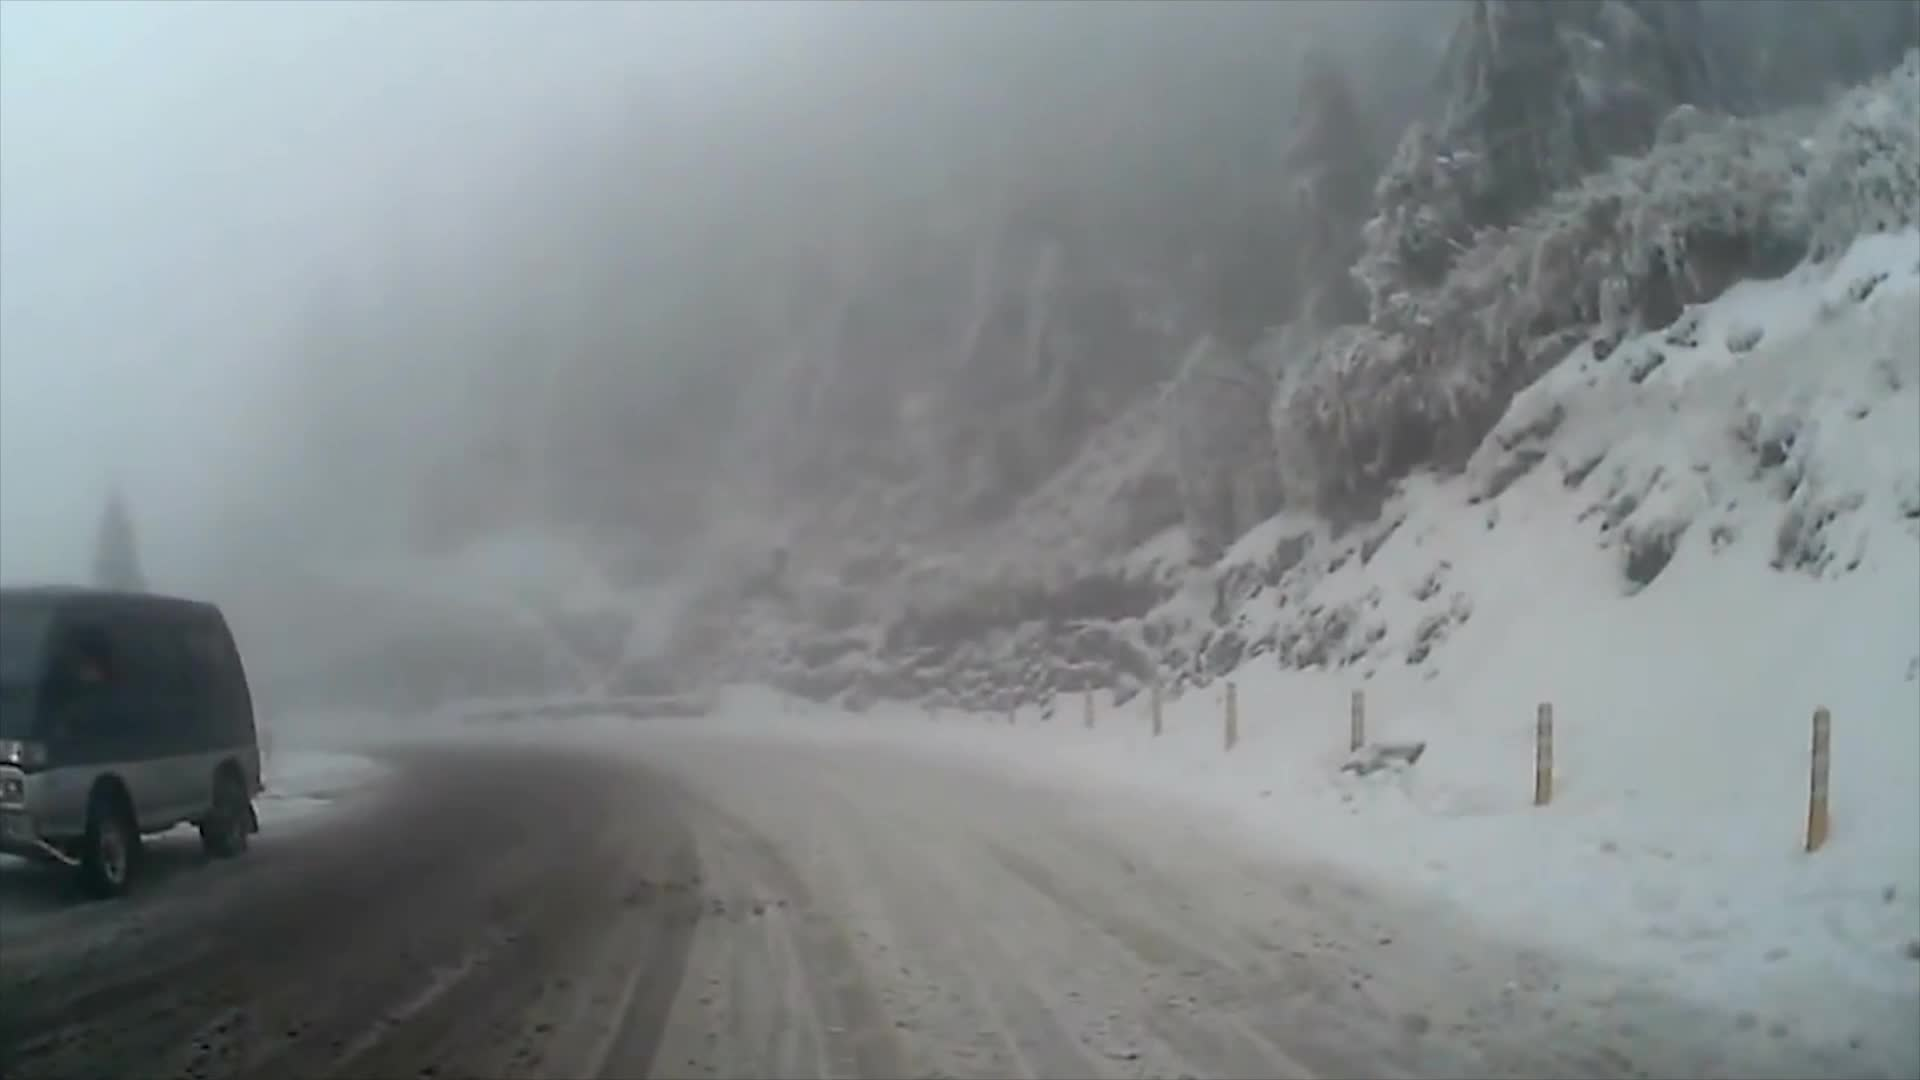vehicle: (0, 583, 266, 897)
